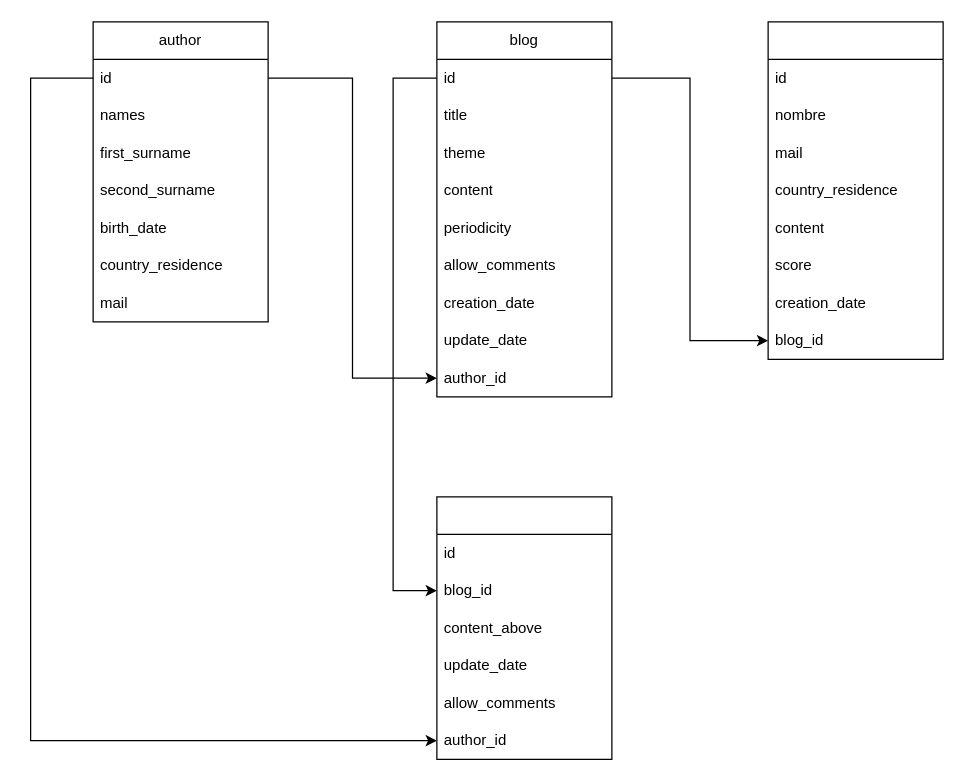
This 965x781 diagram has some shape labels left out. Here are the shapes that lost their labels. From the top down, the box of each, then its label:
(767, 21, 943, 359): comment
(436, 496, 612, 759): blog_history
